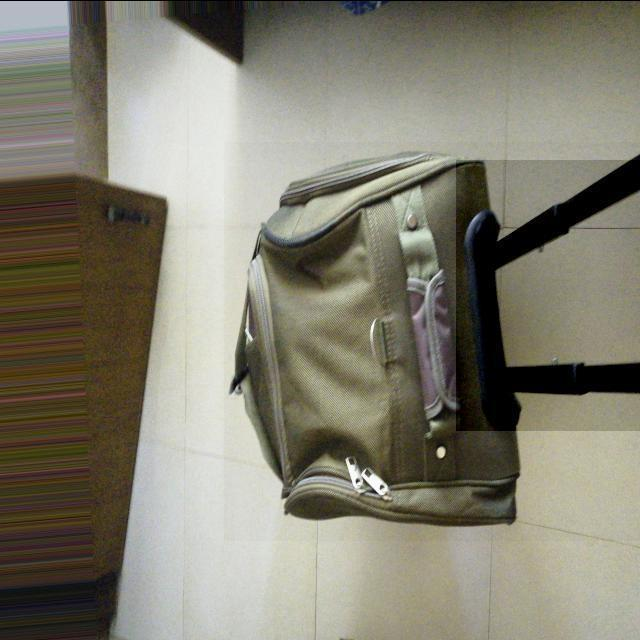Suitcase: (229, 148, 640, 550)
